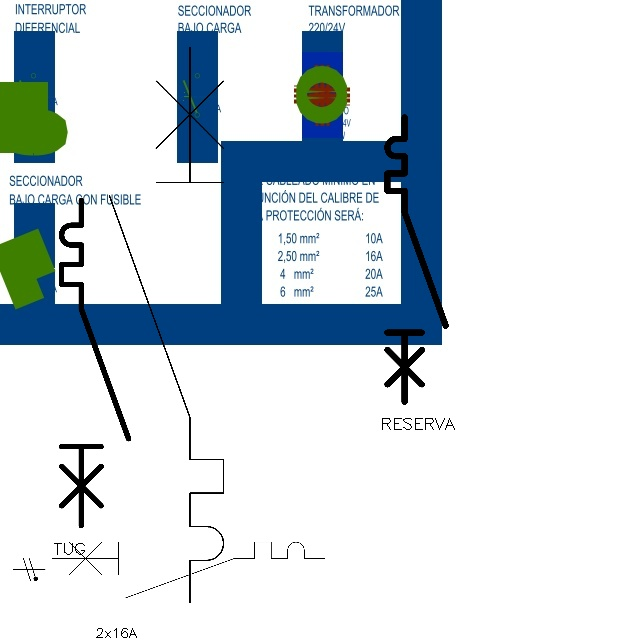interruptor_termomagnetico: (95, 33, 238, 617), (53, 192, 137, 534), (380, 110, 453, 409), (45, 535, 332, 605)
